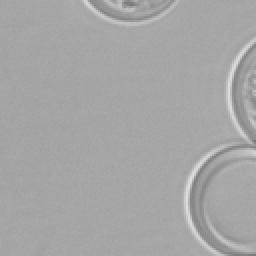picoshell: (184, 142, 254, 254), (226, 38, 254, 142), (82, 0, 178, 24)
